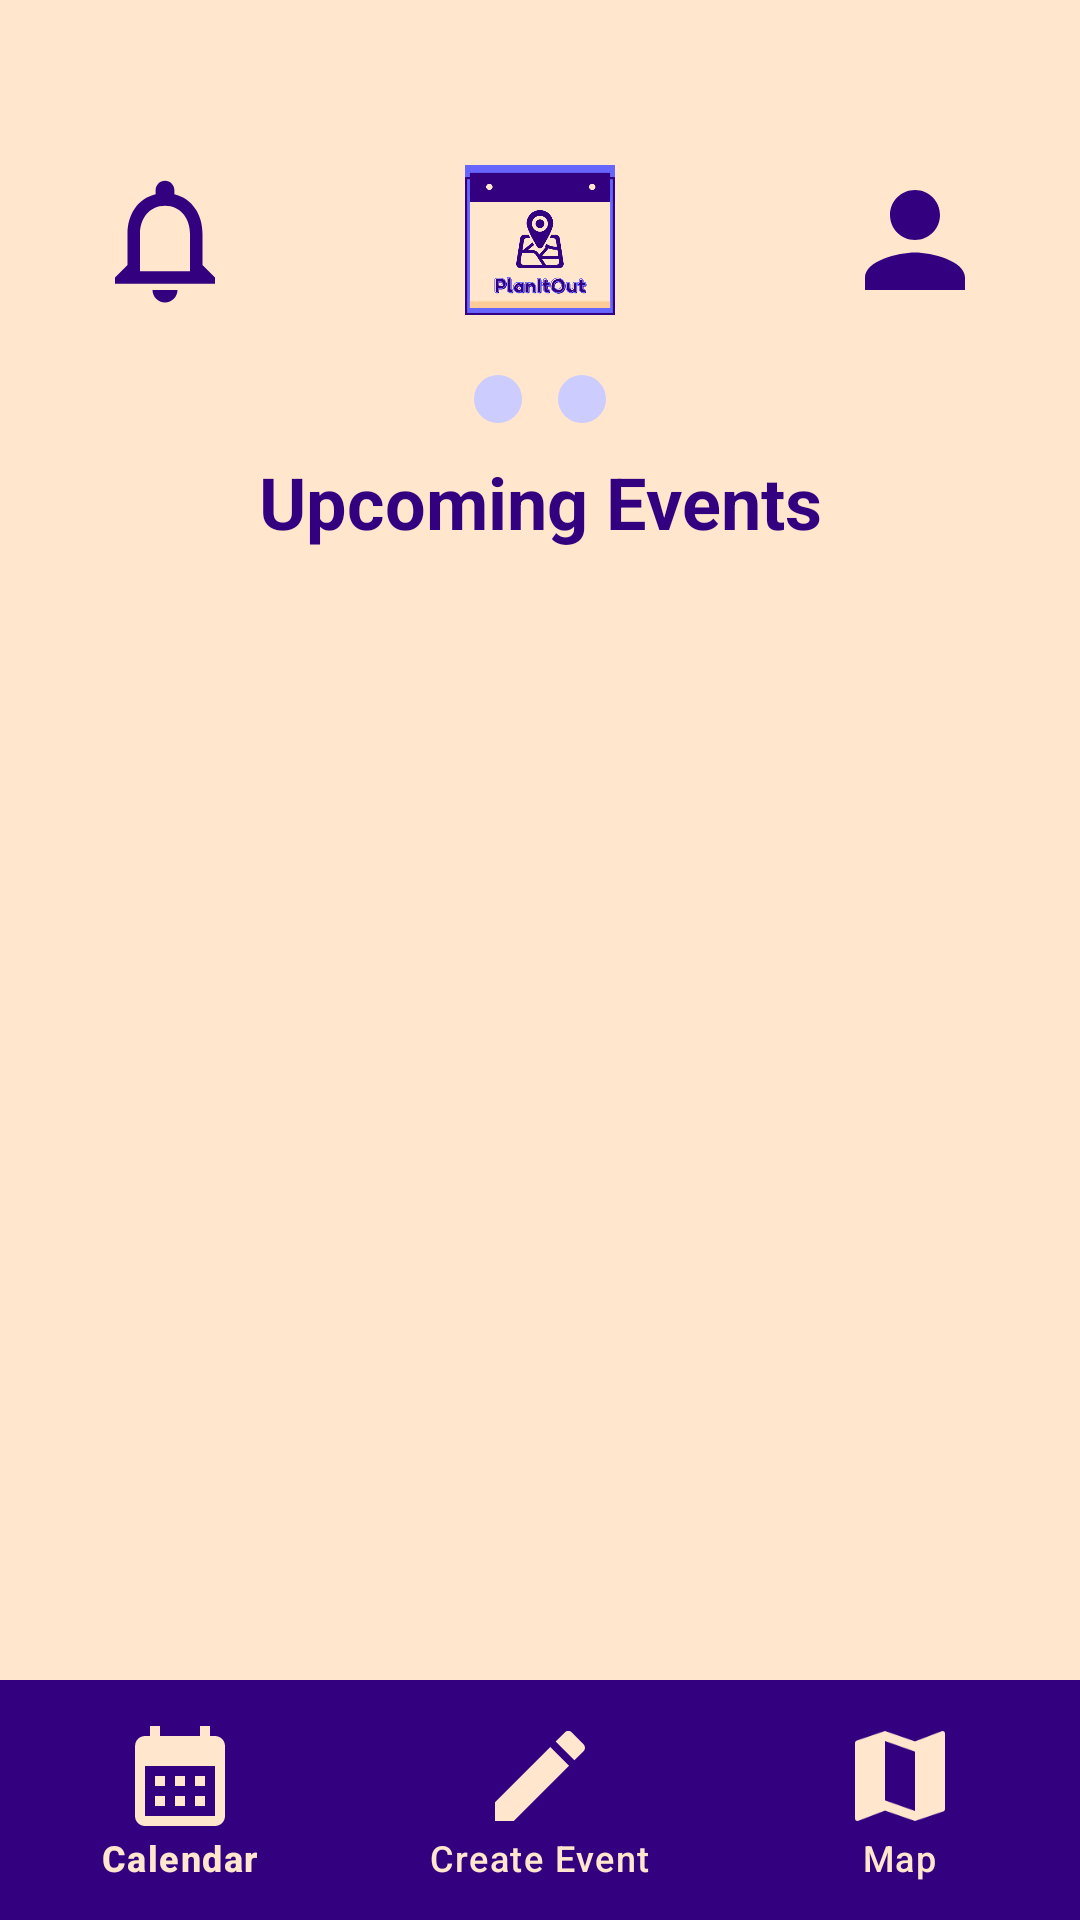

Icon click points for this 1080w x 1920h phone screenshot, format [x,y]:
notifications none: [165,241]
person: [915,240]
